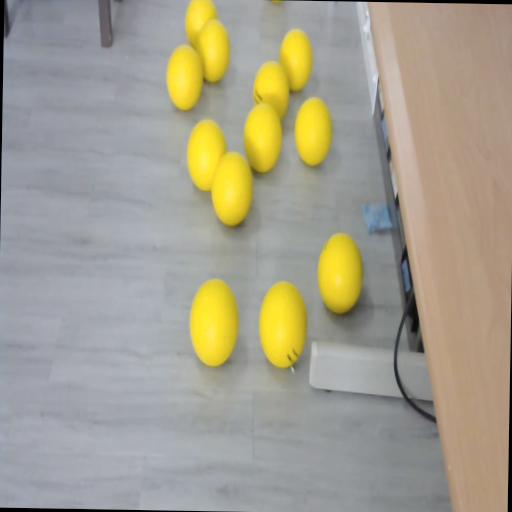FUEL: (256, 278, 308, 368), (188, 277, 240, 366), (316, 232, 364, 312), (210, 150, 254, 228), (242, 101, 284, 173), (294, 96, 332, 166), (166, 44, 204, 110), (196, 18, 231, 84), (278, 28, 314, 92)
